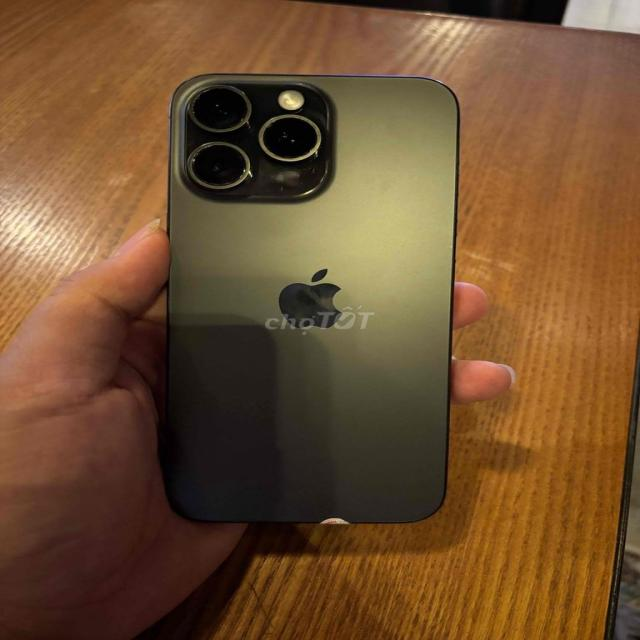scratch: (180, 80, 326, 195)
